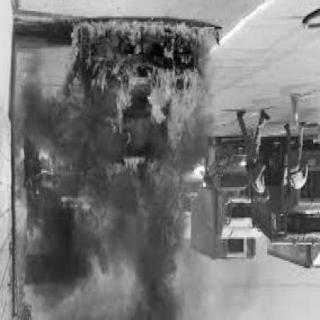Fire: (57, 22, 221, 262)
other: (224, 196, 258, 258), (248, 128, 254, 146)
